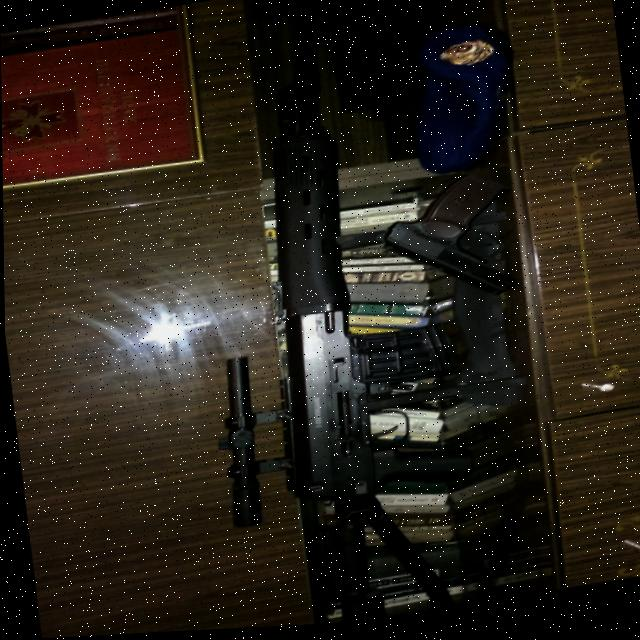firearm: (164, 0, 486, 633)
pistol: (377, 171, 516, 315)
